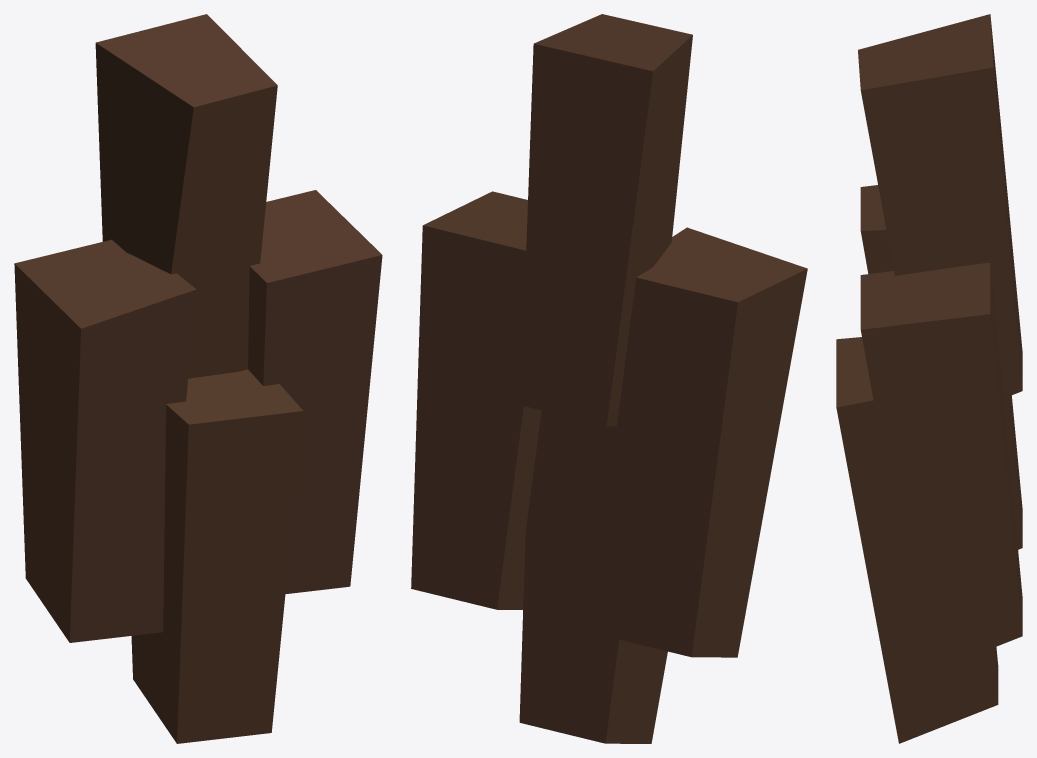
Rendered from Pedras_Cachoeira.fbx.
The picture shows the model from 3 angles, left to right: view 1: azimuth 30°, elevation 25°; view 2: azimuth 150°, elevation 25°; view 3: azimuth 270°, elevation 25°; orthographic projection. The views are drawn at different scales.
Visible parts, largest first — view 1: Cube; view 2: Cube; view 3: Cube.
Part boxes in pixels (bbox=[...]): Cube: bbox=[14, 14, 382, 743]; Cube: bbox=[411, 14, 807, 743]; Cube: bbox=[836, 14, 1022, 743].
Bounding box in the file's own units: 231 × 503 × 127.
